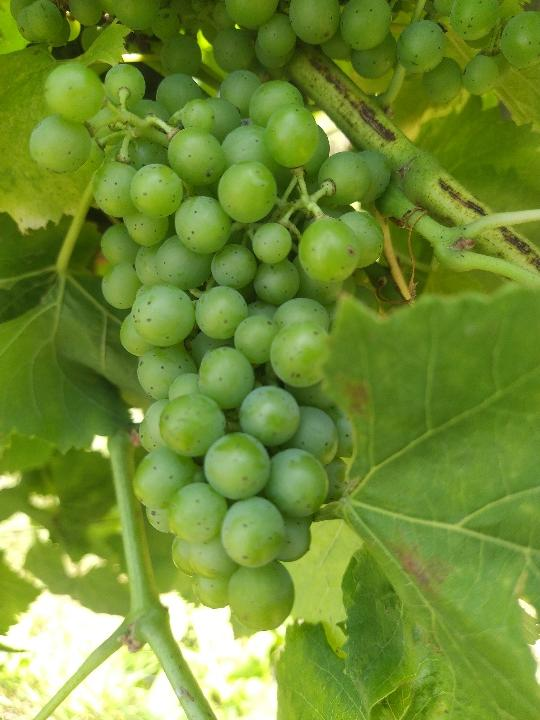grape: (24, 60, 398, 634)
